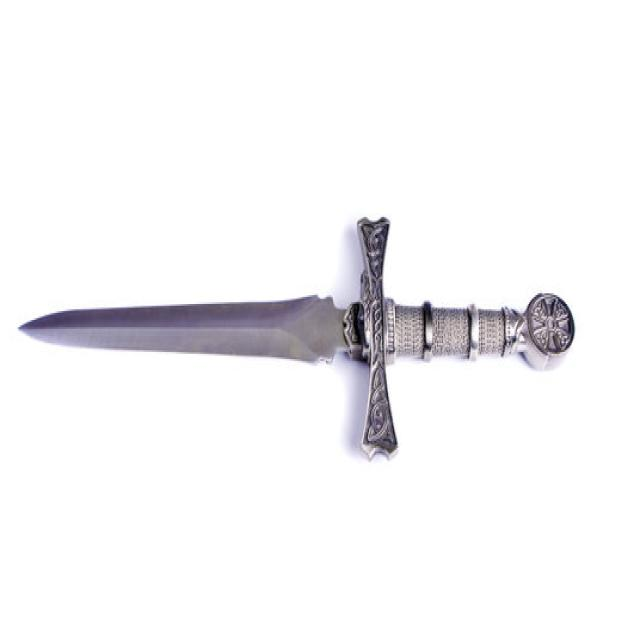Gun: (0, 216, 605, 482)
